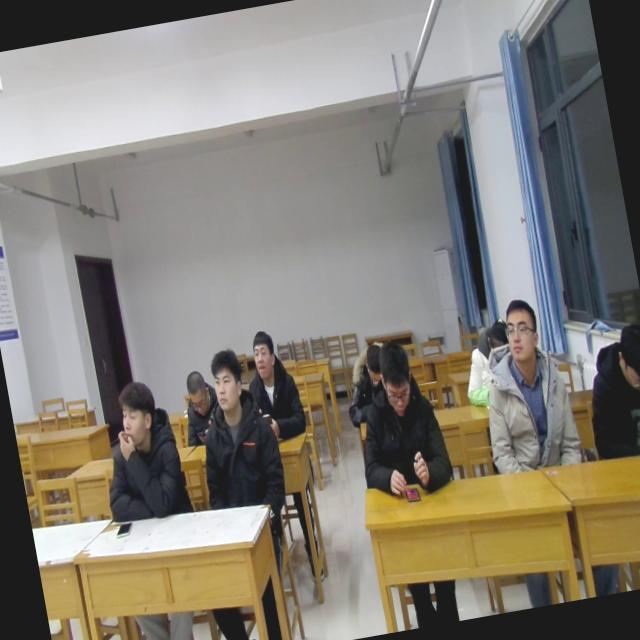bow: (453, 312, 523, 412), (335, 333, 401, 428)
down: (373, 335, 418, 420), (604, 313, 640, 399), (178, 364, 212, 418), (478, 310, 512, 352), (356, 341, 386, 386)
lookup: (109, 375, 164, 453), (203, 343, 250, 418), (498, 292, 544, 366), (246, 320, 284, 380)
sit: (464, 289, 588, 482), (181, 340, 290, 514), (343, 334, 456, 499), (86, 372, 194, 528), (571, 316, 640, 467), (240, 324, 310, 444), (172, 366, 226, 452)
